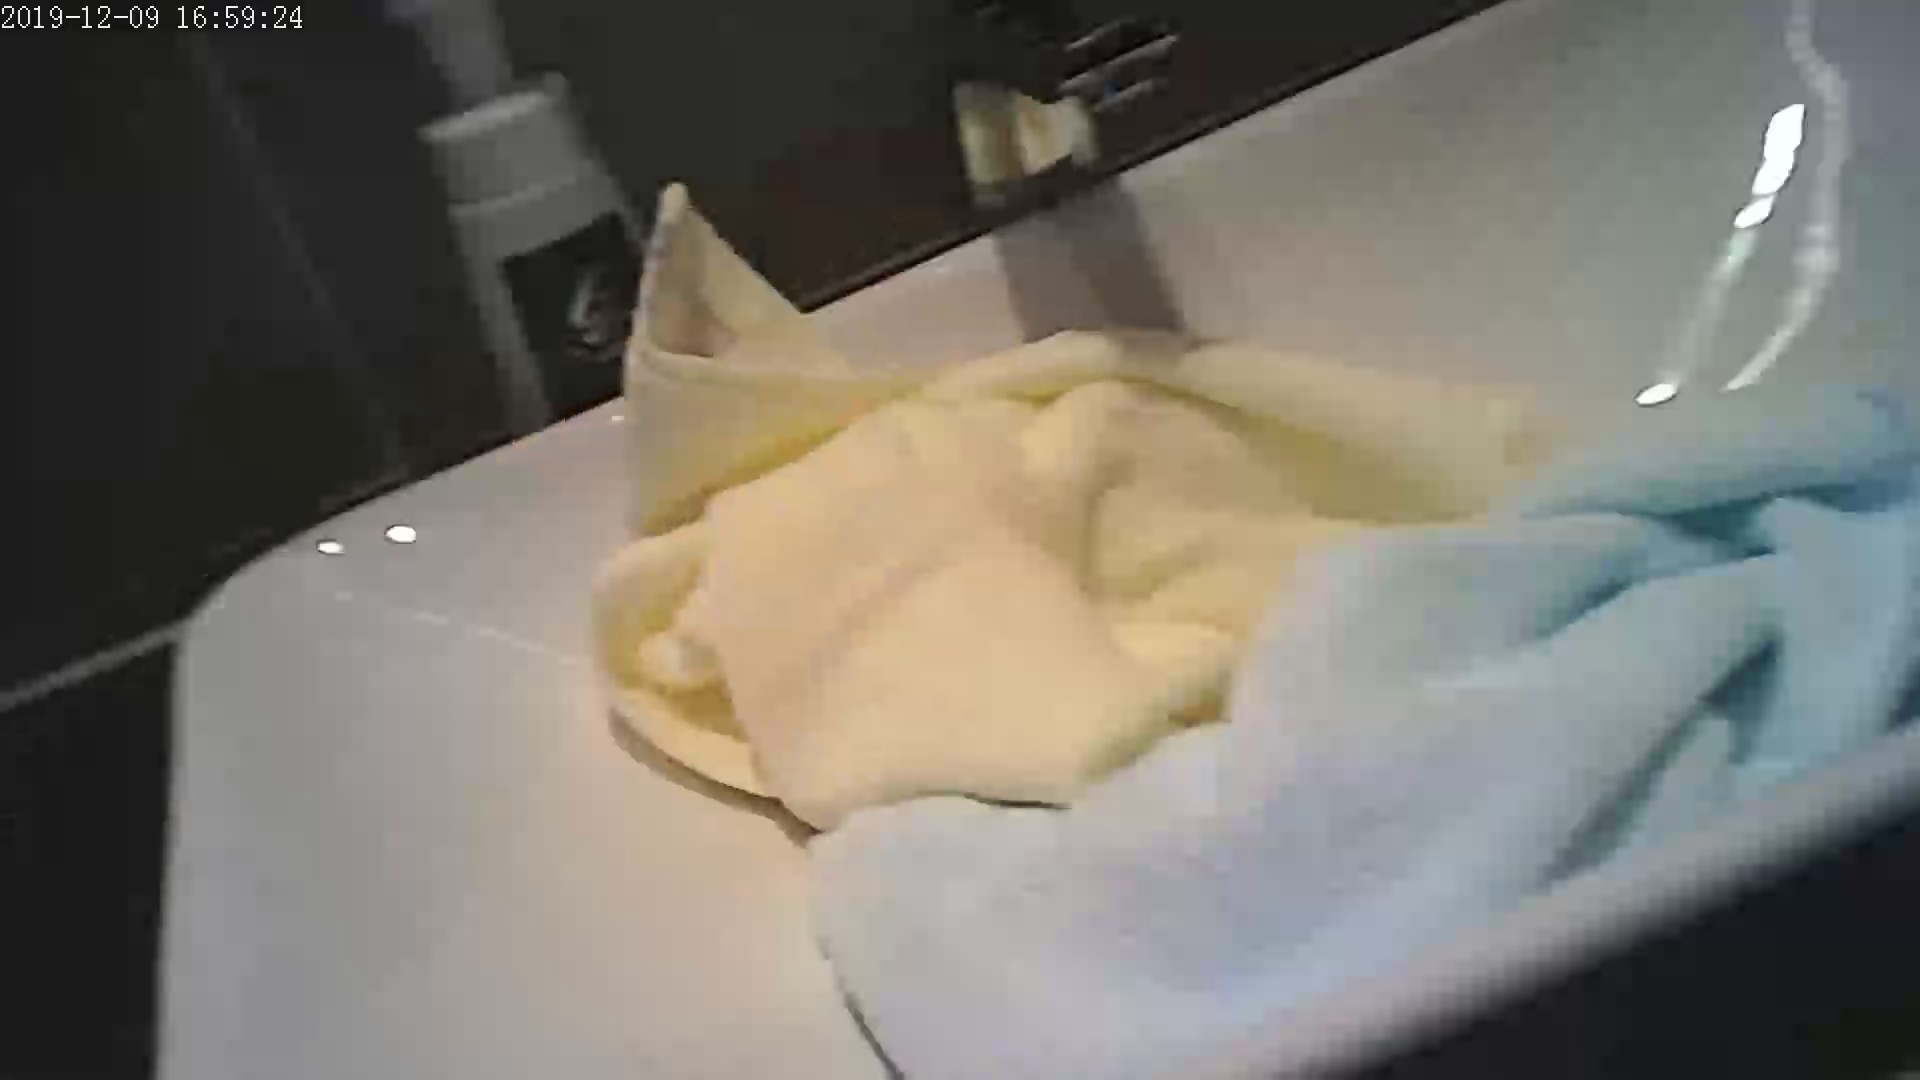bluecloth: (1064, 510, 1904, 1064)
sink: (156, 55, 1903, 1065)
yellowcloth: (630, 285, 1175, 767)
